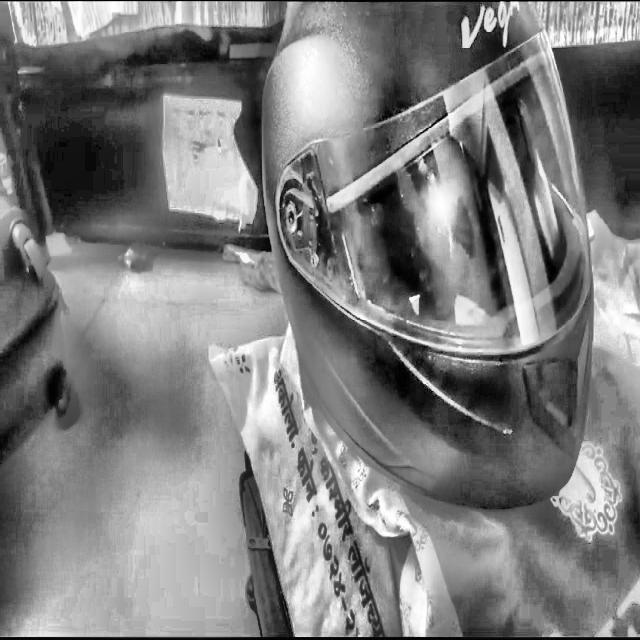Helmet: (259, 0, 600, 511)
